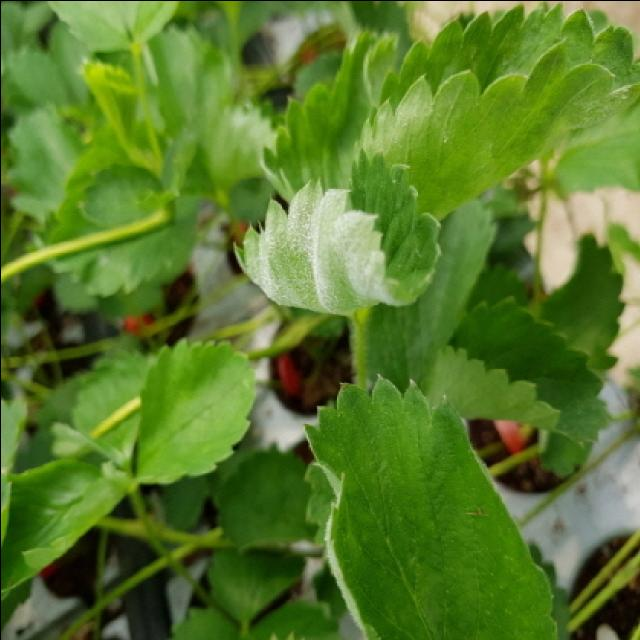Powdery Mildew Leaf: (300, 374, 558, 640), (231, 146, 442, 315)
